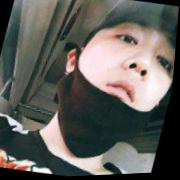WRONG: (62, 5, 179, 147)
